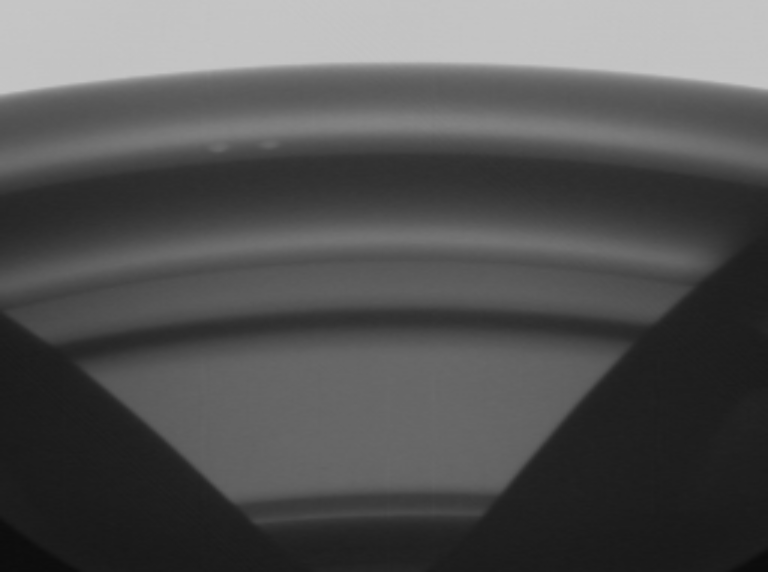defect: (243, 125, 288, 163)
